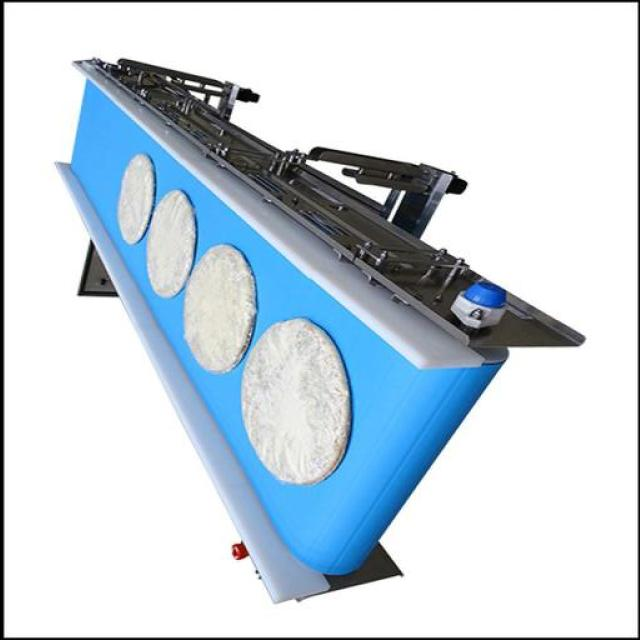conveyor: (69, 76, 504, 574)
